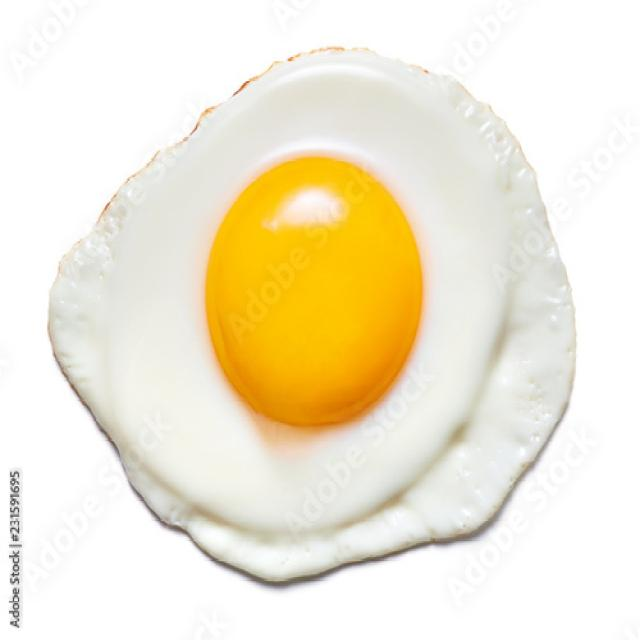Egg: (49, 50, 575, 581)
